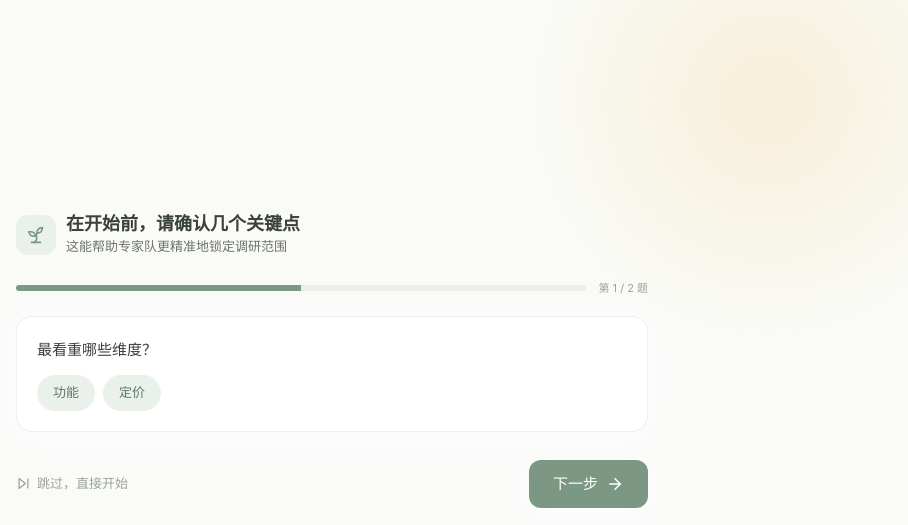
Test: T-AutoAdvance 自动前进（单选 + 多选） › TC-AA3 多选题选中后停顿自动前进（无需点下一步）+ 主按钮变「完成本题」
Expected: the text "最看重哪些维度？" is shown, [37,340,157,359]
Click the button "功能".
click(66, 392)  # box [37,374,95,410]
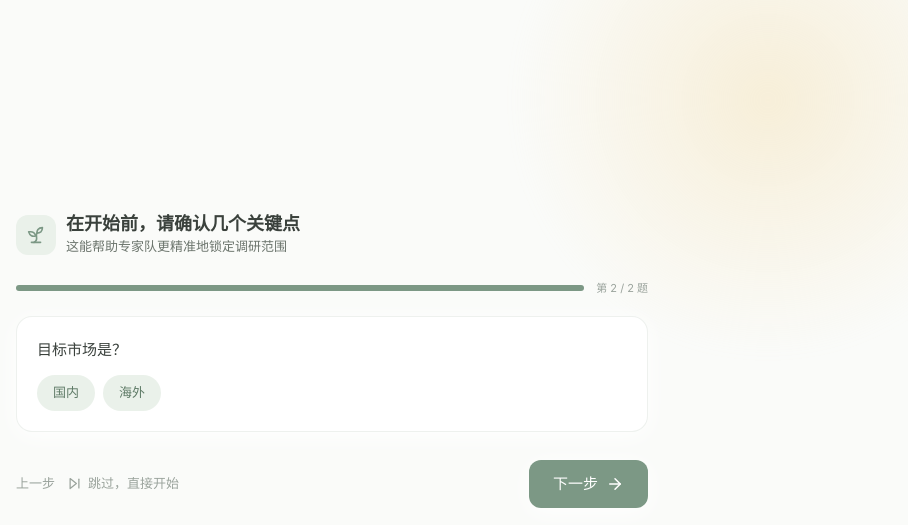
Expected: the button "完成本题" is shown, [529,460,648,508]
Now the text "目标市场是？" is shown, box [37,340,127,359]
Now the text "最看重哪些维度？" is gone
